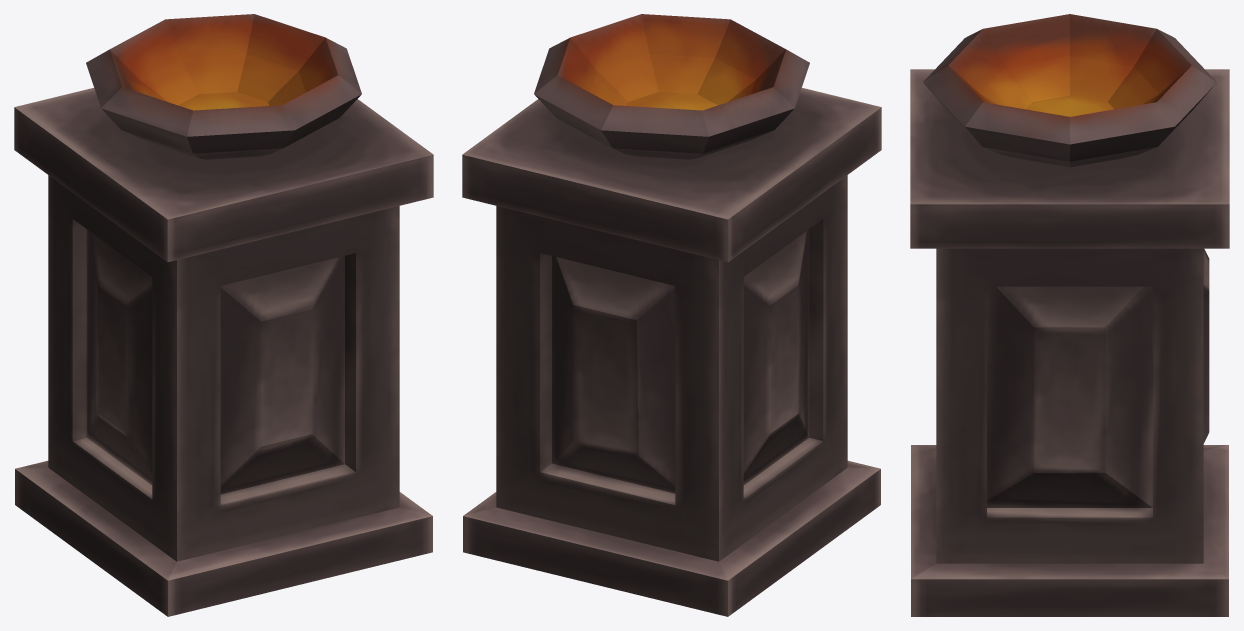
The model's file is rock_02.fbx.
3 renders of one model, left to right at view 1: azimuth 30°, elevation 25°; view 2: azimuth 150°, elevation 25°; view 3: azimuth 270°, elevation 25°, orthographic. The views are drawn at different scales.
Visible parts, largest first — view 1: rock_02; view 2: rock_02; view 3: rock_02.
Boxes of the visible parts, <box> form: rock_02: <box>14,14,433,616</box>; rock_02: <box>462,14,881,616</box>; rock_02: <box>910,14,1229,616</box>.
Bounding box in the file's own units: 0.7161 × 1.2 × 0.7161.
